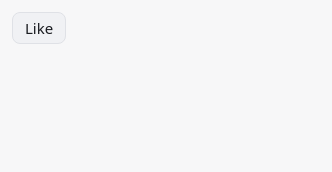
it: useOptimistic › reverts automatically when the save fails
Later steps or results of the test are not shown.
Step 1. Click the button → (39,28), box [12, 12, 66, 44]
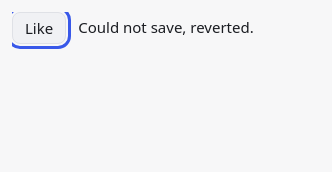
Expected: the message shows "Could not save", [78, 17, 254, 37]
